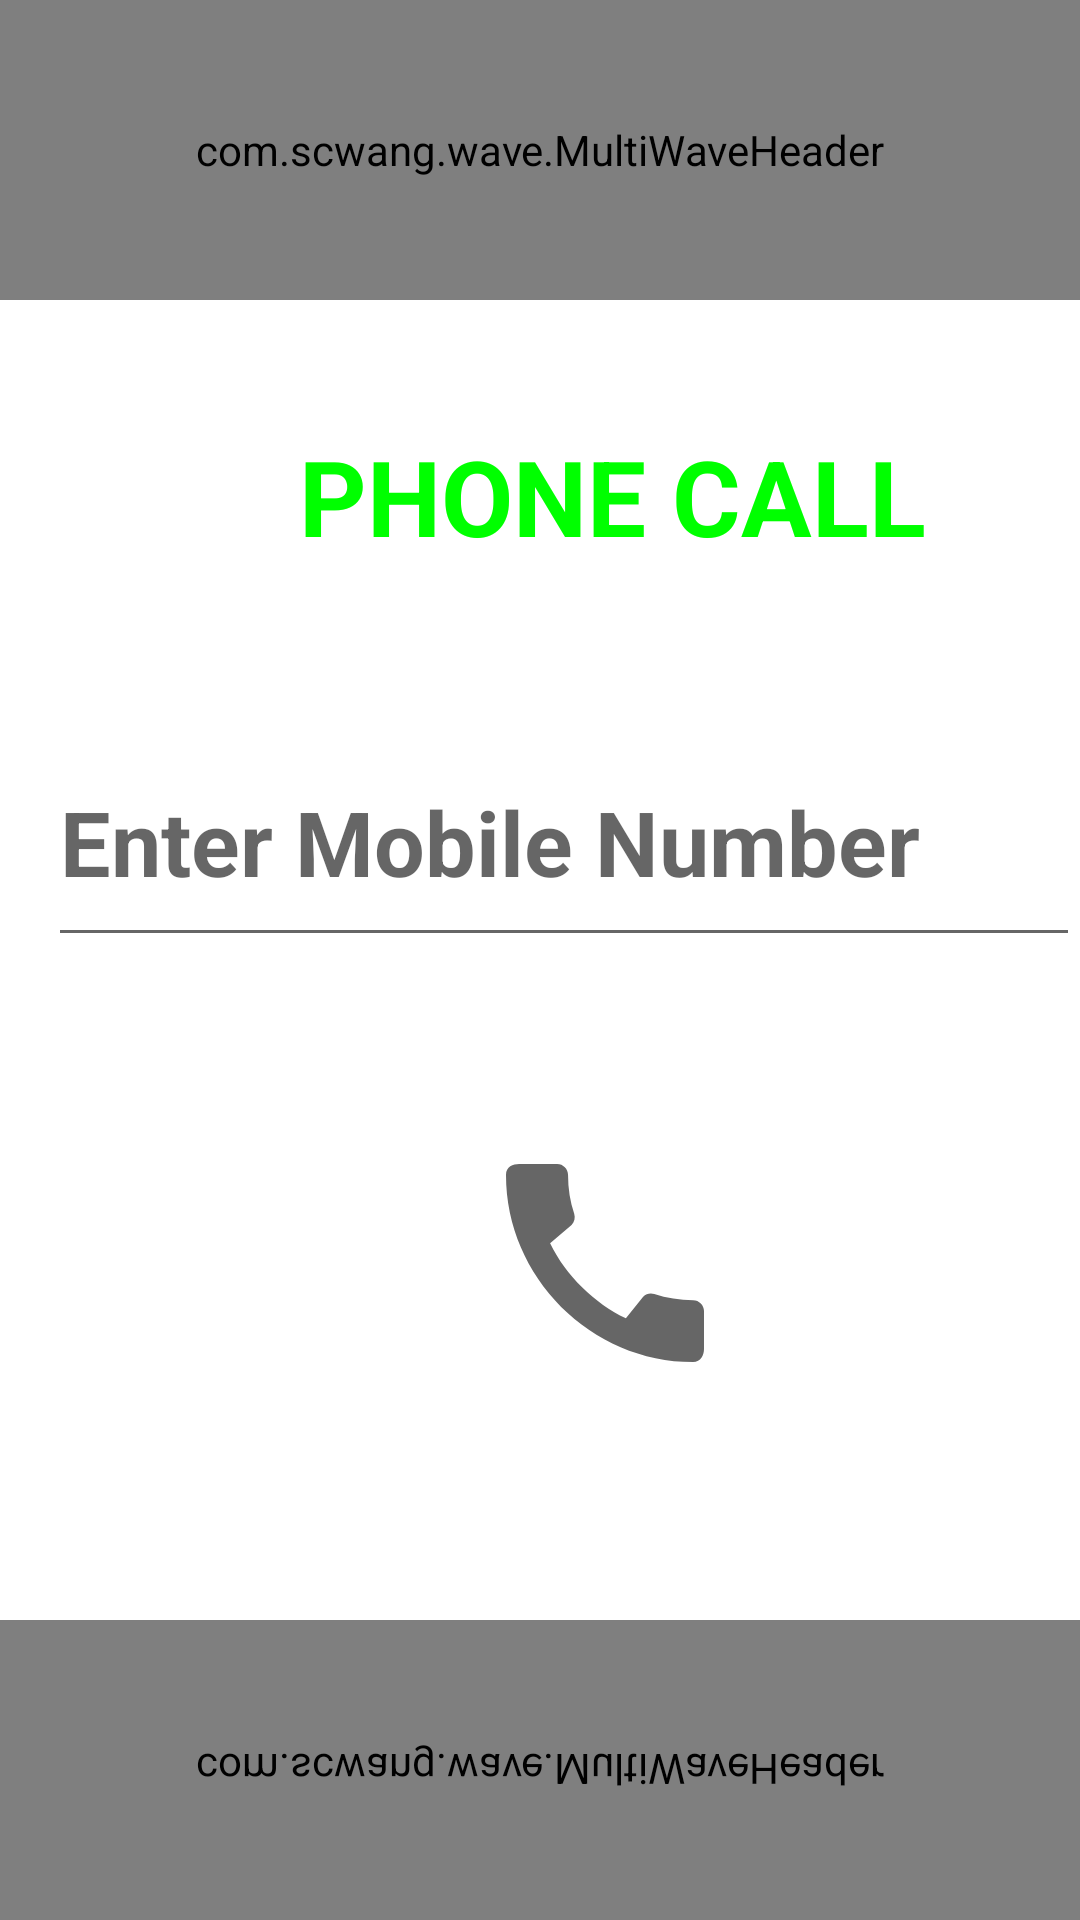

Locate icon controls on the screen. Image size 1080w x 1920h, boxes as Rect(x1, y1, x2, y2).
call: Rect(506, 1164, 704, 1362)
